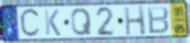2: (96, 6, 115, 37)
B: (146, 5, 171, 35)
C: (18, 7, 41, 40)
H: (123, 5, 148, 37)
K: (43, 8, 62, 37)
Q: (70, 7, 93, 37)
